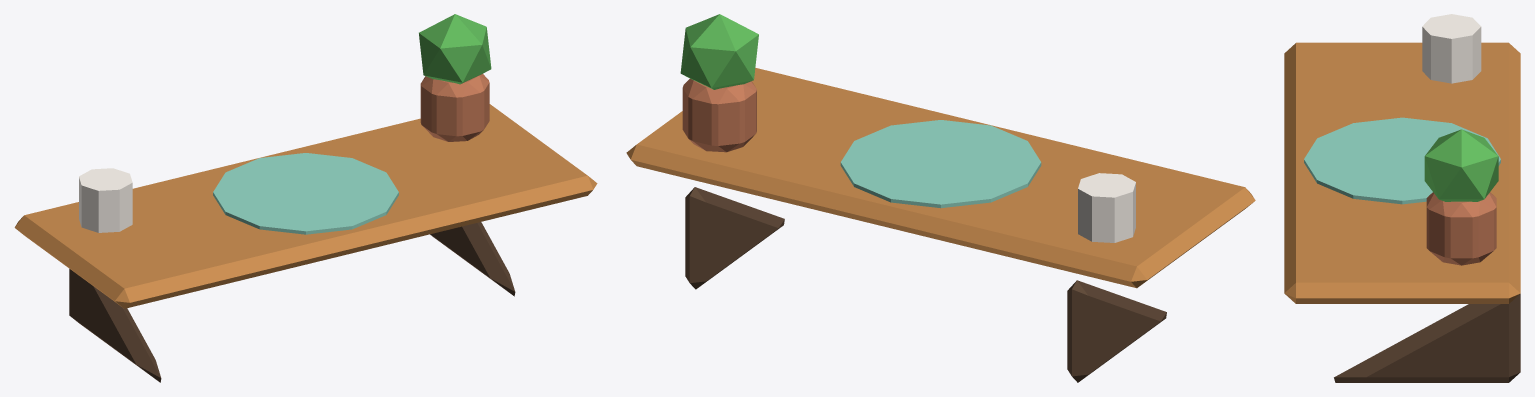
Rendered from CatCafe_Furniture_WallShelf.glb.
The picture shows the model from 3 angles, left to right: view 1: azimuth 30°, elevation 25°; view 2: azimuth 150°, elevation 25°; view 3: azimuth 270°, elevation 25°; orthographic projection. The views are drawn at different scales.
Parts seen in each view (by area): view 1: CatCafe_Furniture_WallShelf; view 2: CatCafe_Furniture_WallShelf; view 3: CatCafe_Furniture_WallShelf.
Part boxes in pixels (bbox=[...]): CatCafe_Furniture_WallShelf: bbox=[14, 14, 597, 382]; CatCafe_Furniture_WallShelf: bbox=[626, 14, 1255, 382]; CatCafe_Furniture_WallShelf: bbox=[1284, 14, 1520, 382].
Size of the model in its own units: 3 by 1.42 by 1.2.
Materials: 1 (1 with a texture image).
